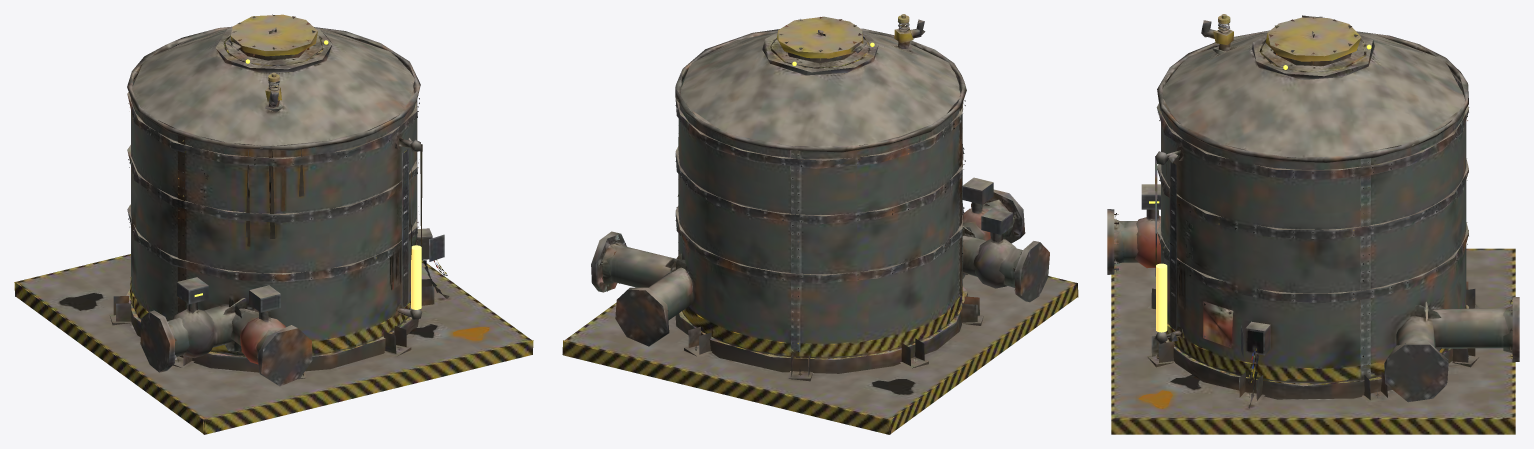
File: tanque.glb
The picture shows the model from 3 angles, left to right: view 1: azimuth 30°, elevation 25°; view 2: azimuth 150°, elevation 25°; view 3: azimuth 270°, elevation 25°; orthographic projection. The views are drawn at different scales.
Parts seen in each view (by area): view 1: tanque_corpo, nivel_seiva; view 2: tanque_corpo; view 3: tanque_corpo, nivel_seiva.
Part boxes in pixels (x1,y1,x2,y2): tanque_corpo: (14, 14, 533, 434); nivel_seiva: (411, 245, 421, 309); tanque_corpo: (562, 16, 1078, 434); tanque_corpo: (1107, 15, 1519, 434); nivel_seiva: (1156, 263, 1167, 332).
Bounding box in the file's own units: 2 × 1.7 × 2.
Materials: 3 (1 with a texture image).
